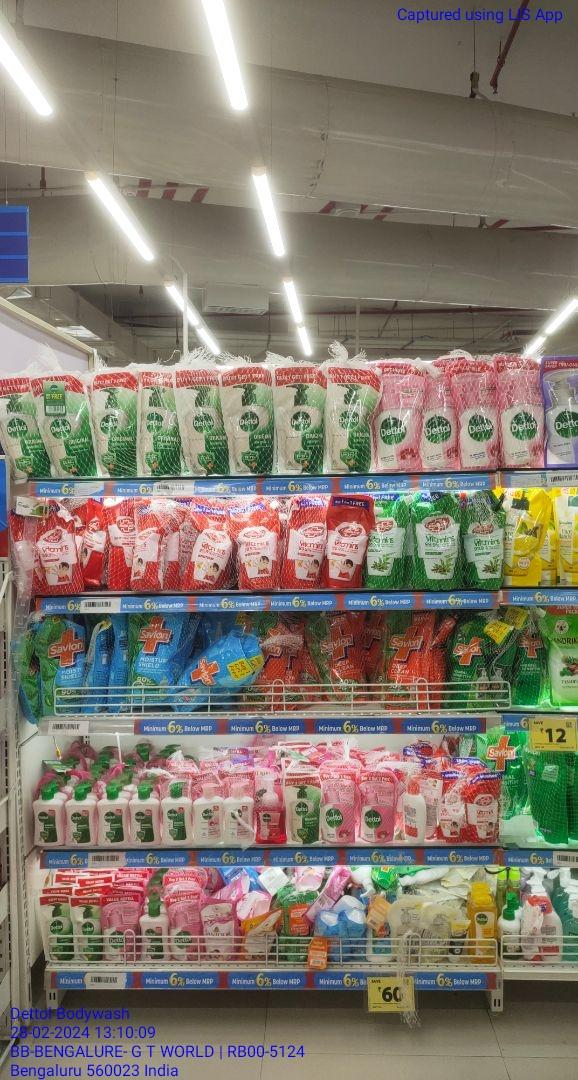Dettol_Bodywash_Refresh: (470, 895, 499, 967)
